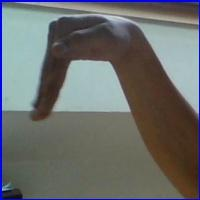del: (26, 11, 159, 131)
